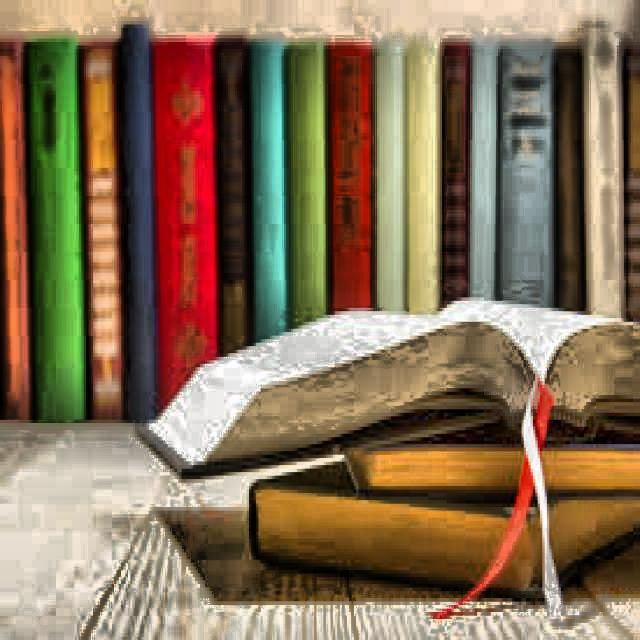Paper: (135, 294, 638, 479), (133, 308, 540, 458), (249, 462, 638, 595), (440, 297, 638, 427), (149, 35, 216, 413), (23, 35, 84, 416), (74, 39, 121, 416), (345, 434, 638, 490), (496, 38, 556, 301), (121, 21, 158, 420), (577, 21, 624, 315), (245, 38, 289, 336), (284, 39, 326, 326), (324, 38, 368, 308), (0, 35, 30, 419), (212, 39, 247, 347), (403, 38, 438, 308), (370, 42, 405, 304), (465, 38, 496, 294), (440, 39, 468, 298), (554, 45, 579, 308), (621, 38, 638, 322)
